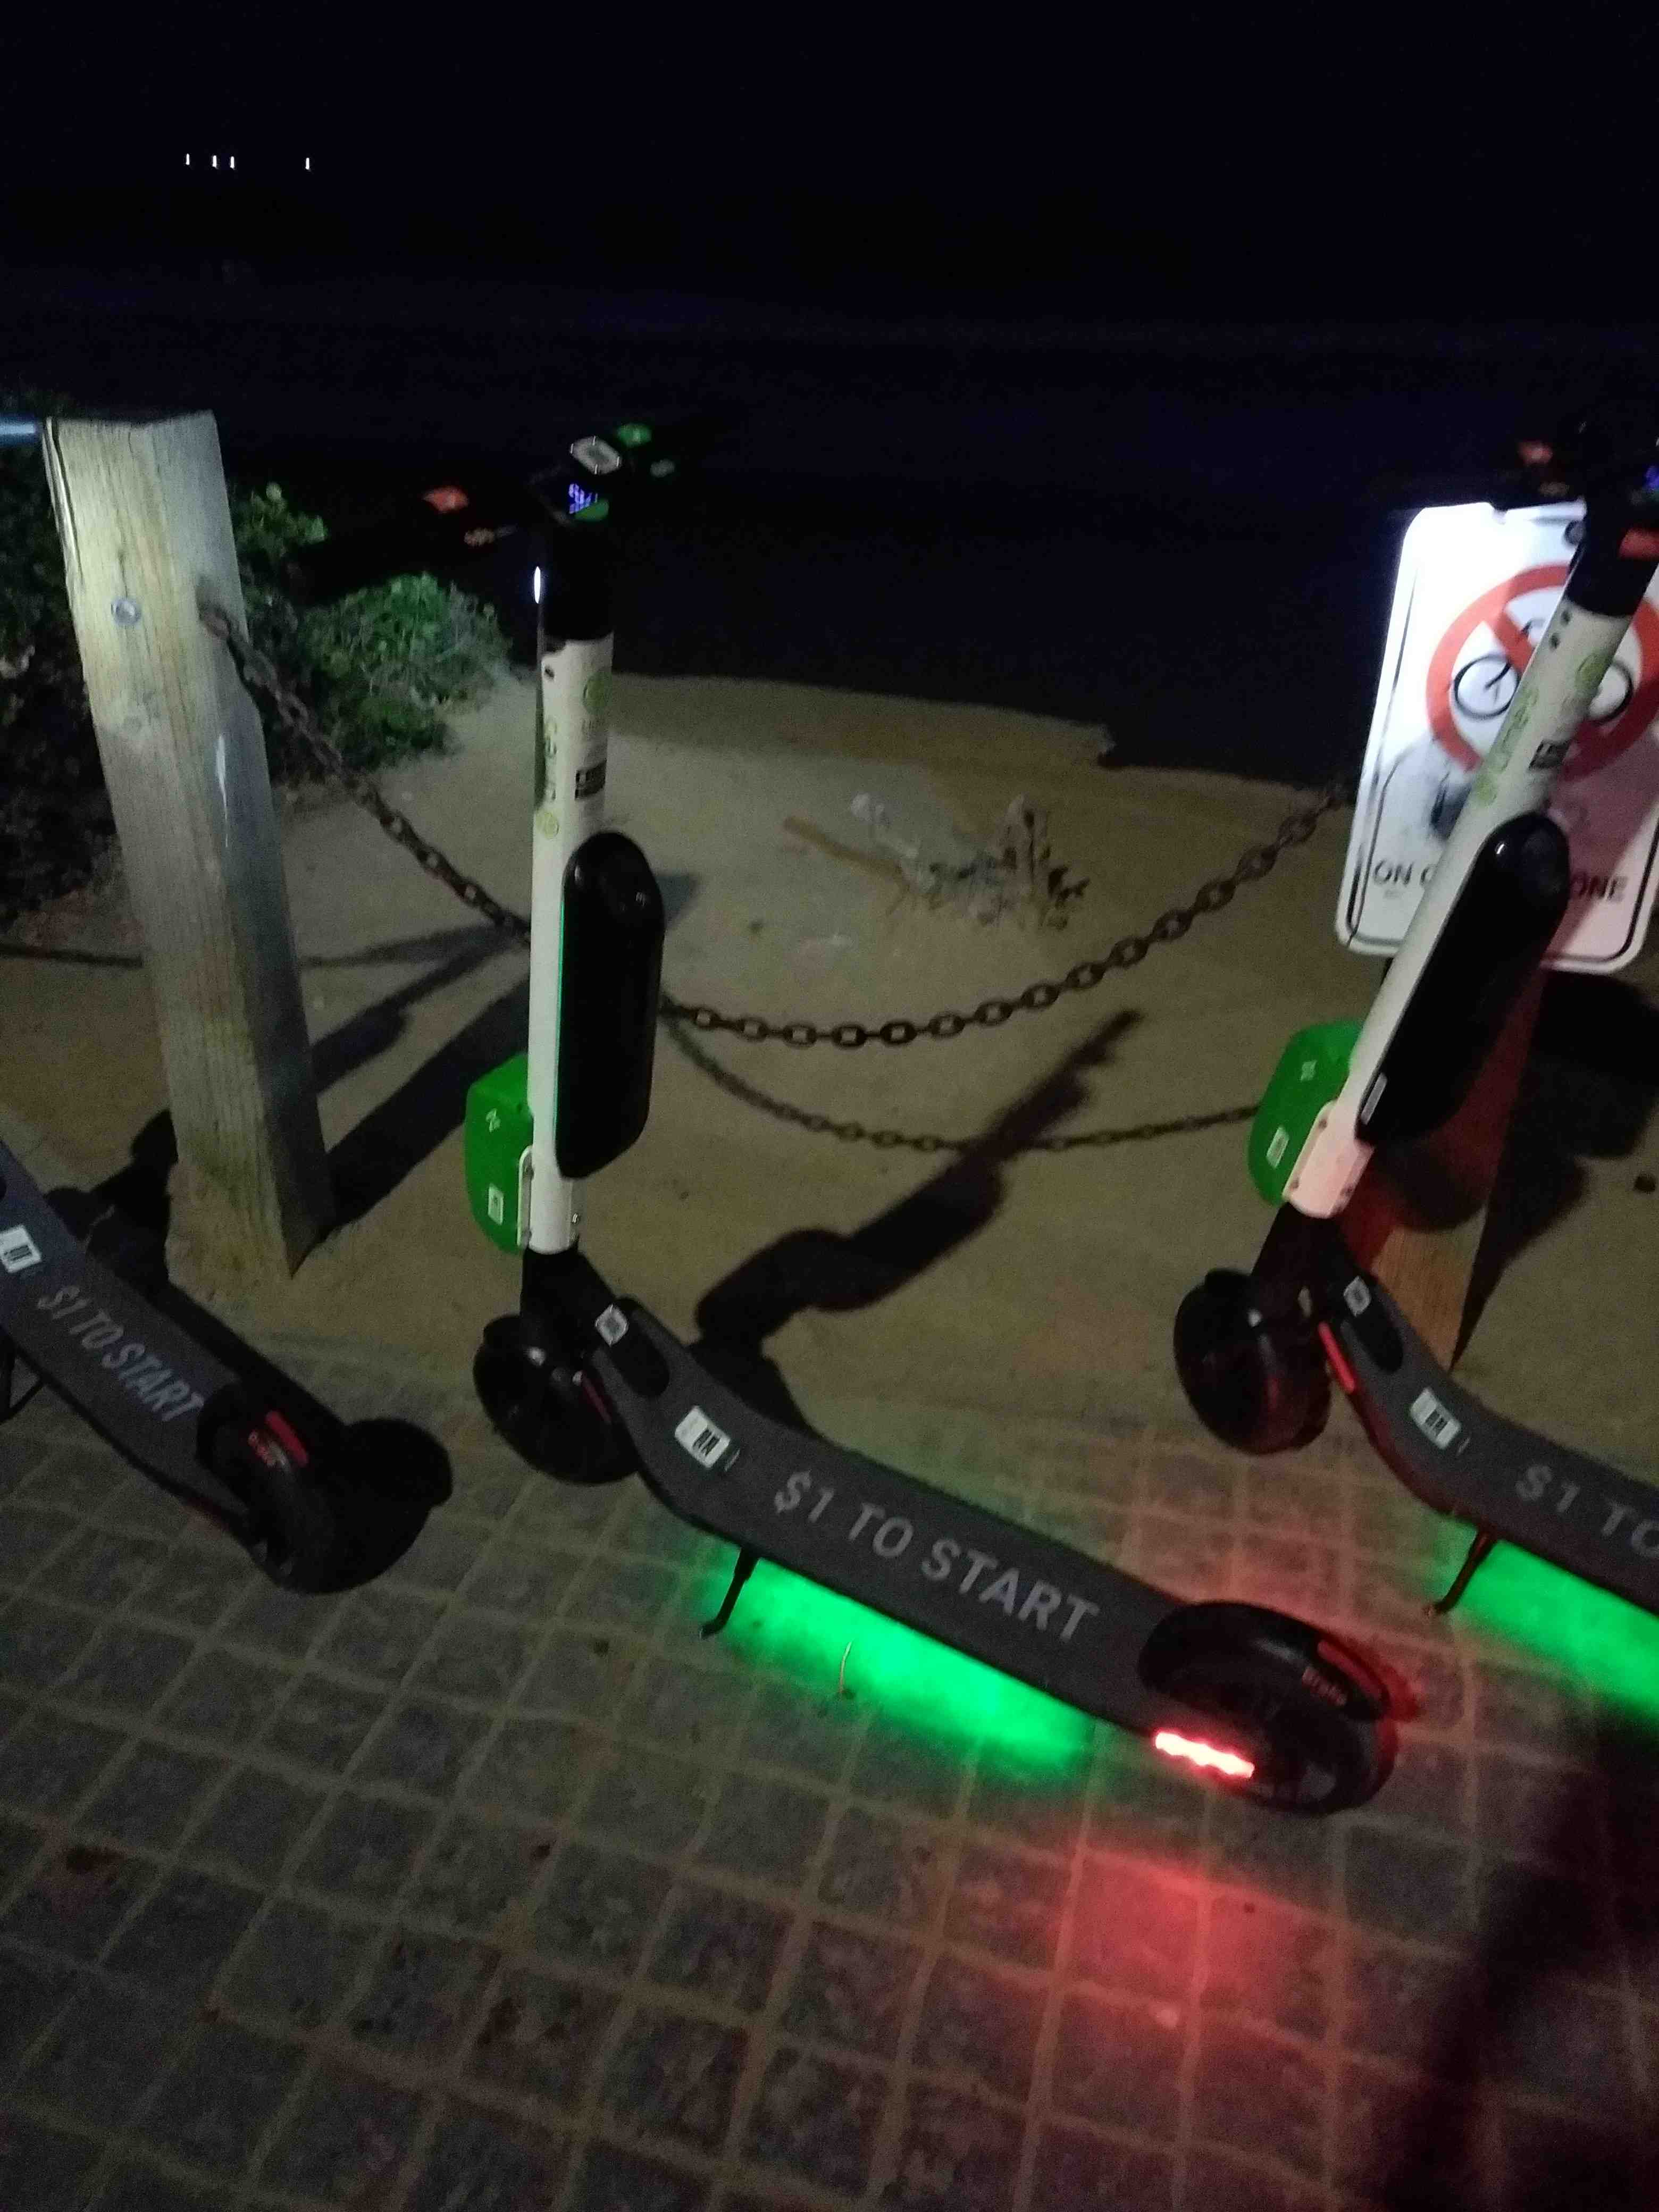scooter: (249, 338, 1436, 1841)
